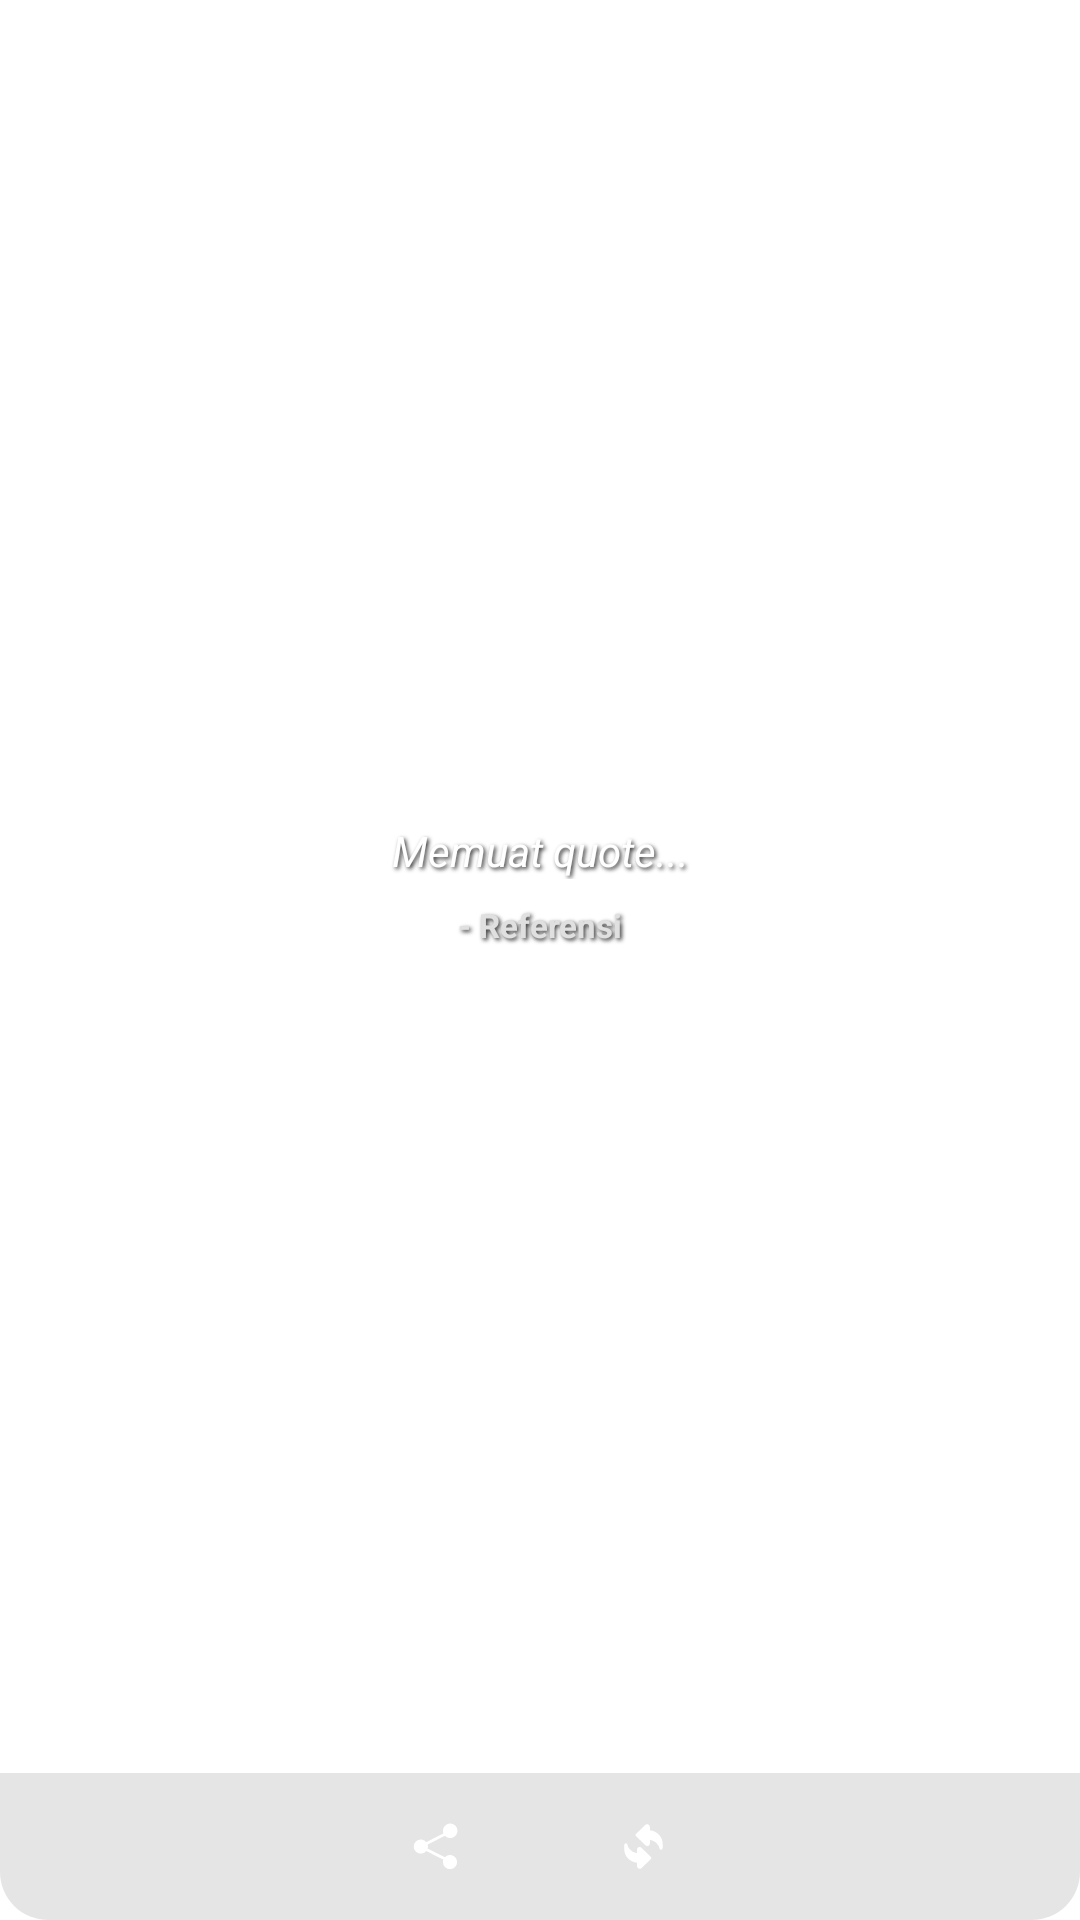

Icons on this 1080×1920 Android screen, each with the point to tap as (x,y):
Bagikan Quote: (435,1846)
Quote Acak: (643,1846)
